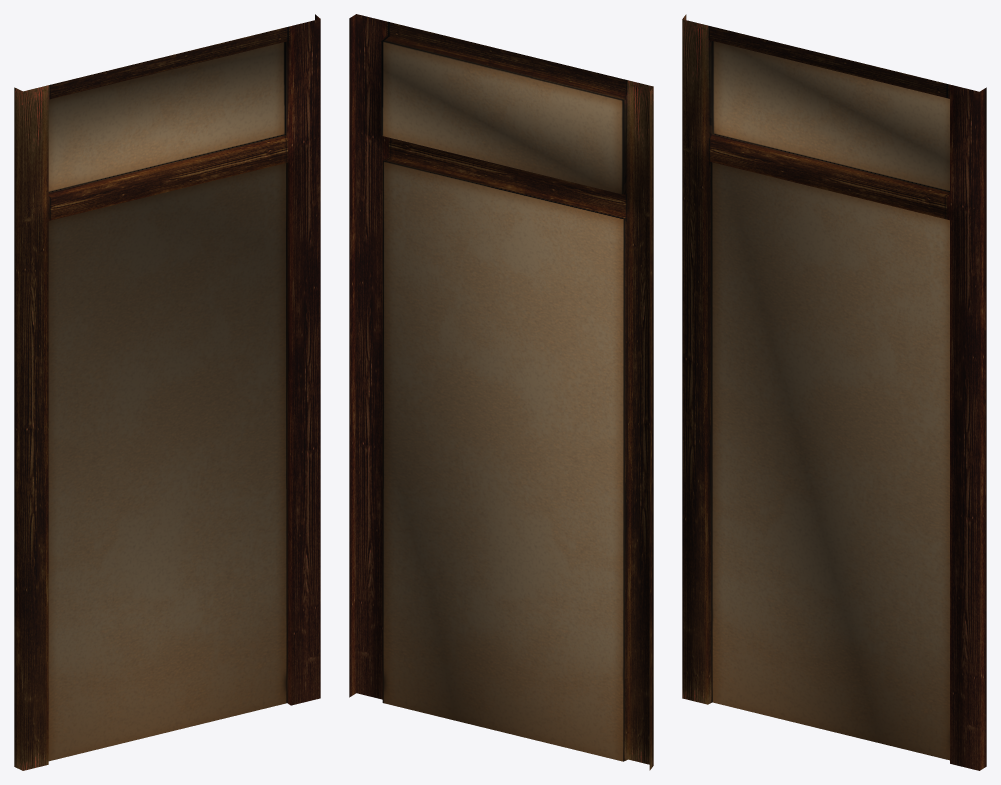
File: dh_wall01.FBX
The picture shows the model from 3 angles, left to right: view 1: azimuth 30°, elevation 25°; view 2: azimuth 150°, elevation 25°; view 3: azimuth 330°, elevation 25°; orthographic projection.
Visible parts, largest first — view 1: Plane004; view 2: Plane004; view 3: Plane004.
Part boxes in pixels (x1,y1,x2,y2): Plane004: (14,14,320,770); Plane004: (349,14,653,770); Plane004: (682,14,986,770).
Size of the model in its own units: 39.64 by 85.66 by 1.46.
